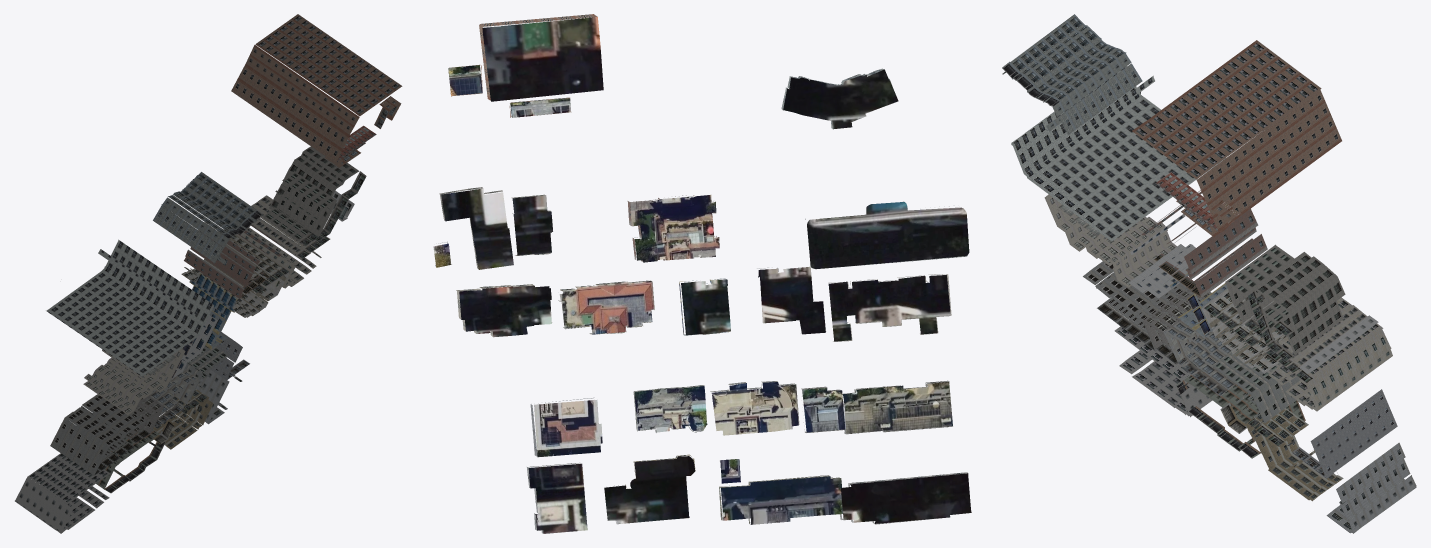
Rendered from tile_LOD4_r3_c13.glb.
3 views of the same model, side by side, from view 1: azimuth 30°, elevation 25°; view 2: azimuth 150°, elevation 25°; view 3: azimuth 270°, elevation 25° (orthographic). The views are drawn at different scales.
Size of the model in its own units: 183 by 170 by 131.
Materials: 110 (110 with a texture image).
